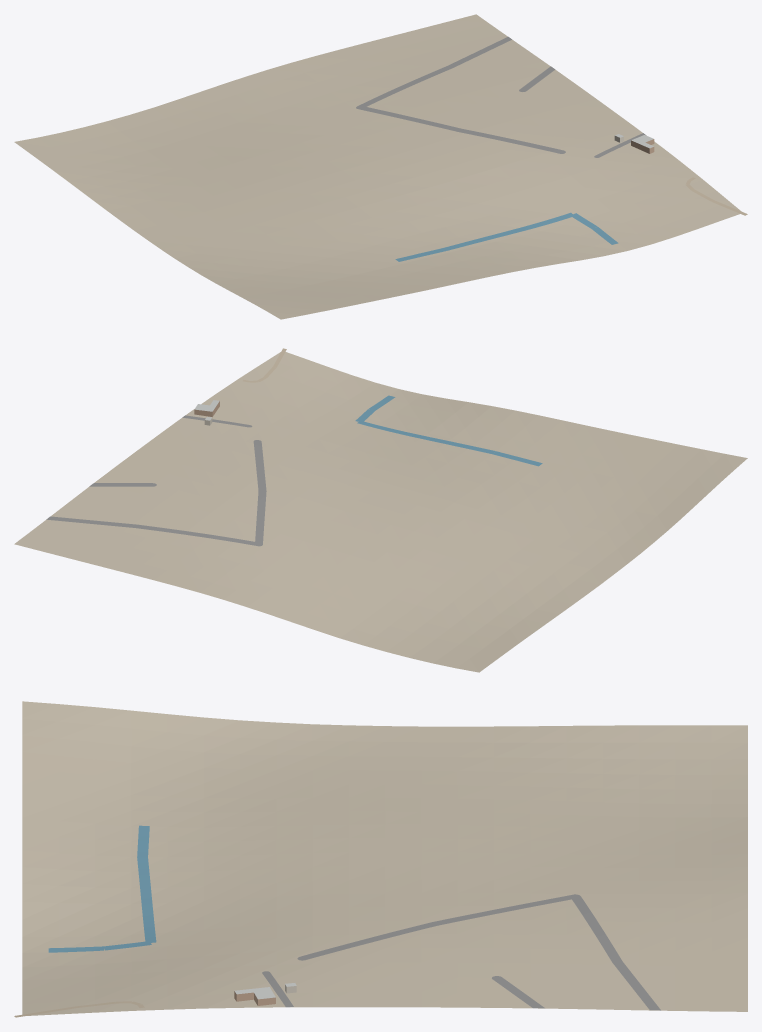
The model's file is bolak_-22_3.glb.
3 views of the same model, one above another, from view 1: azimuth 30°, elevation 25°; view 2: azimuth 150°, elevation 25°; view 3: azimuth 270°, elevation 25° (orthographic). The views are drawn at different scales.
Parts seen in each view (by area): view 1: Yer_Tuproq-col, Yol_Mahalla-col, Suv; view 2: Yer_Tuproq-col, Yol_Mahalla-col, Suv; view 3: Yer_Tuproq-col, Yol_Mahalla-col, Suv.
Part boxes in pixels (x1,y1,x2,y2): Yer_Tuproq-col: [14, 14, 741, 319]; Yol_Mahalla-col: [356, 36, 645, 157]; Suv: [395, 212, 618, 261]; Yer_Tuproq-col: [14, 352, 747, 672]; Yol_Mahalla-col: [46, 415, 266, 546]; Suv: [355, 395, 542, 466]; Yer_Tuproq-col: [22, 701, 747, 1015]; Yol_Mahalla-col: [262, 894, 660, 1010]; Suv: [48, 825, 156, 952].
Size of what is drawn, in the model's own units: 402 by 20.99 by 405.
